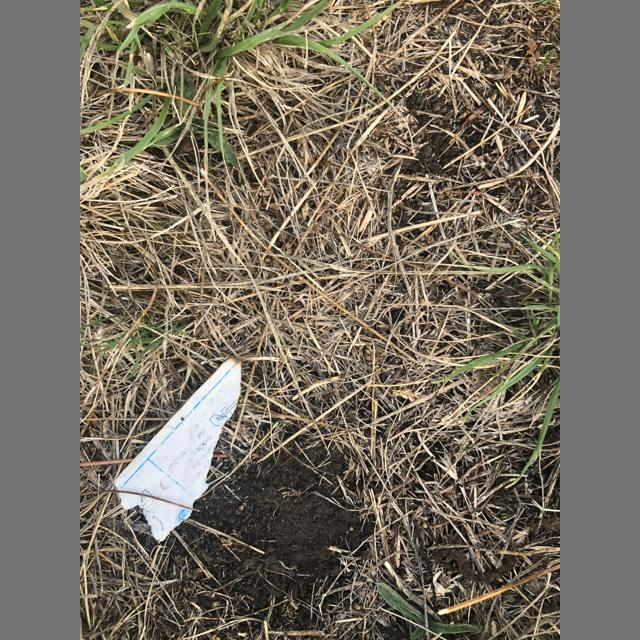litter: (115, 355, 242, 542)
